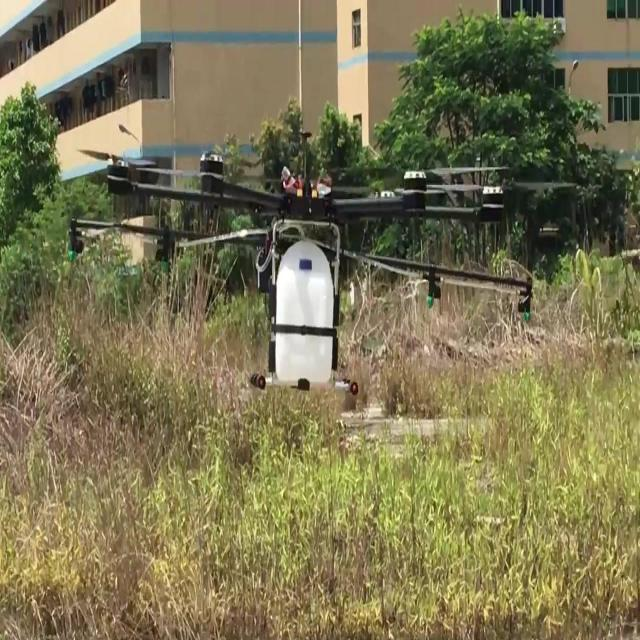UAV: (78, 146, 576, 399)
